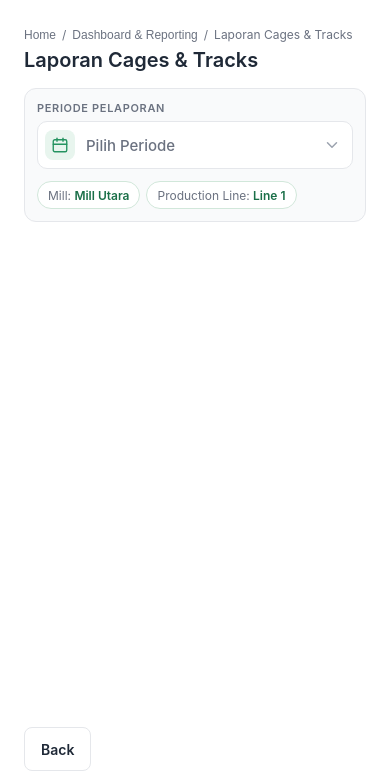
Test: LaporanCagesTrackView — test_scenarios / component_test (tech spec screen-136) › periode tanpa data — KPI nol, peak_hour dan jeda sebagai keterangan, tanpa grafik kosong
Select "Cages Track — Periode Maret 2026" in the dropdown with test id "period-select" at {"x": 195, "y": 145}, box [37,121,353,169]
(page scrolled)
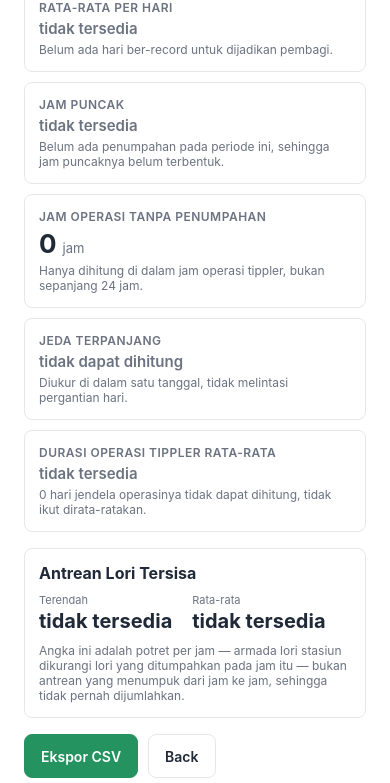
Check: the element with test id "kpi-longest-gap" does not show "0 jam"
Check: the text with test id "kpi-longest-gap" reads "tidak dapat dihitung", box [39,352,183,371]
